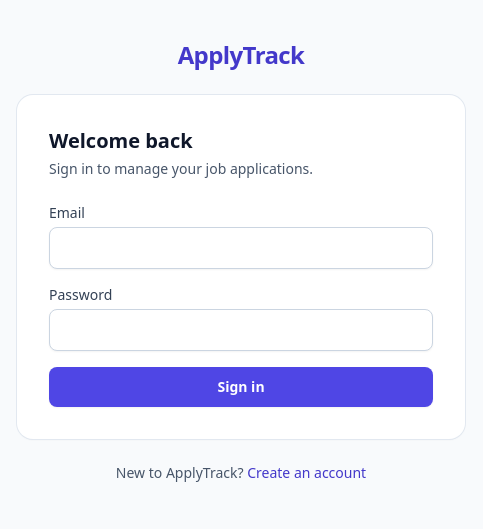
LoginPage › shows the server's generic error, keeps what was typed and re-enables the button
The width and height of the screenshot is (483, 529).
Type "ada@example.com" into the field labelled "Email" at (241, 248), box [49, 227, 433, 269]
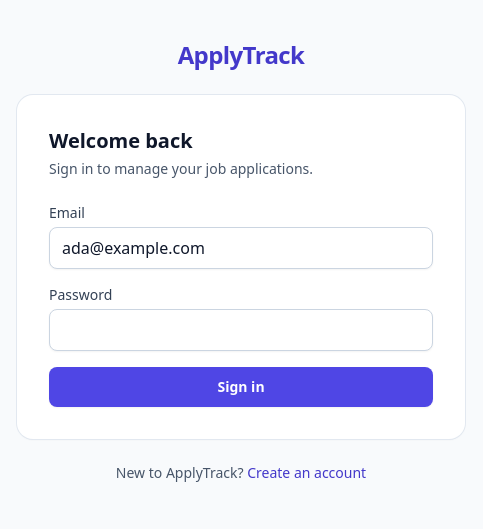
Type "wrong-pass-1" into the password field labelled "Password" at (241, 330), box [49, 309, 433, 351]
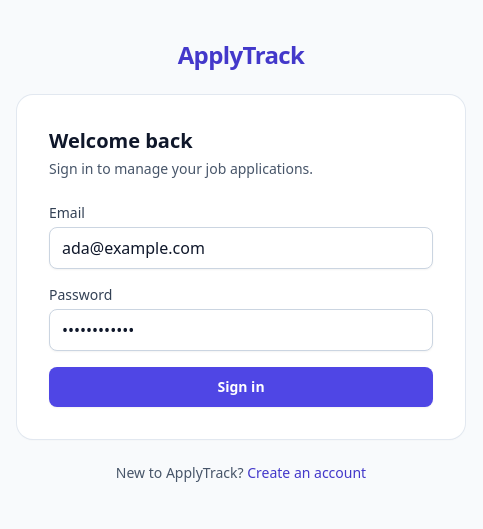
Click the button "Sign in" at (241, 387), box [49, 367, 433, 407]
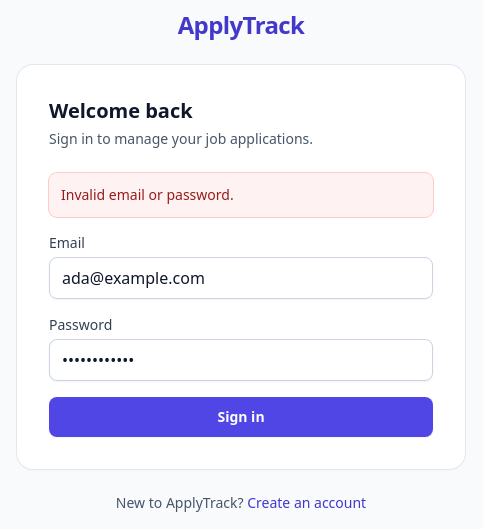
Check: the button "Sign in" is enabled, box [49, 397, 433, 437]
Check: the message reads "Invalid email or password.", box [61, 185, 234, 204]
